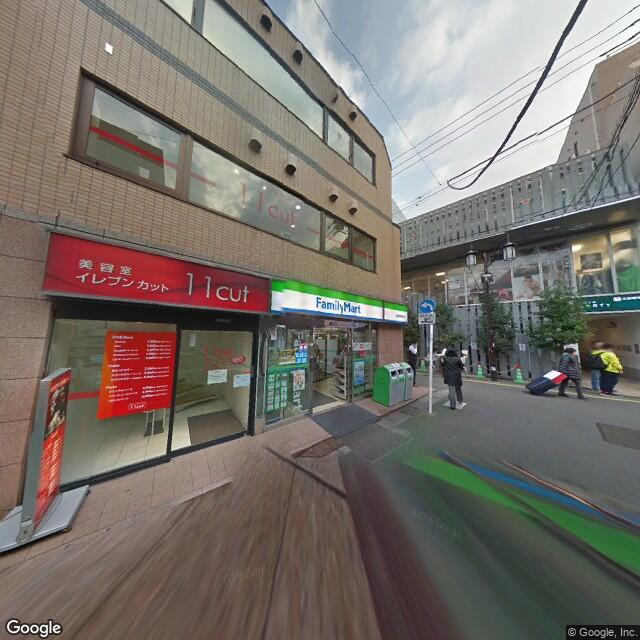family_mart: (269, 274, 413, 328), (311, 293, 364, 319)
